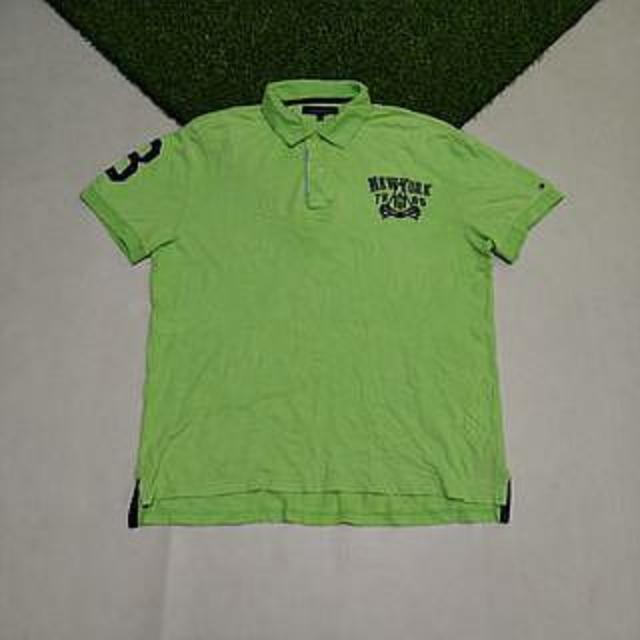T_SHIRT: (48, 74, 585, 538)
